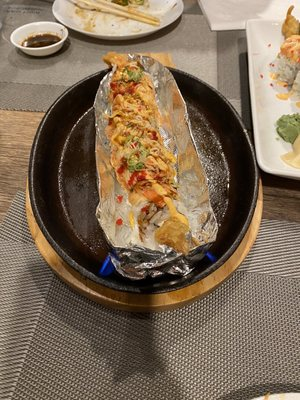curry: (275, 112, 300, 145)
sushi: (245, 5, 300, 182), (10, 21, 69, 58)
